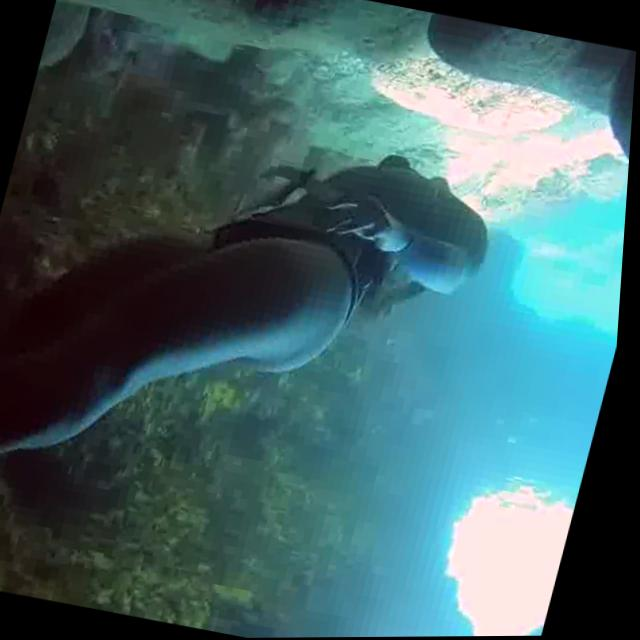human: (0, 80, 515, 640)
